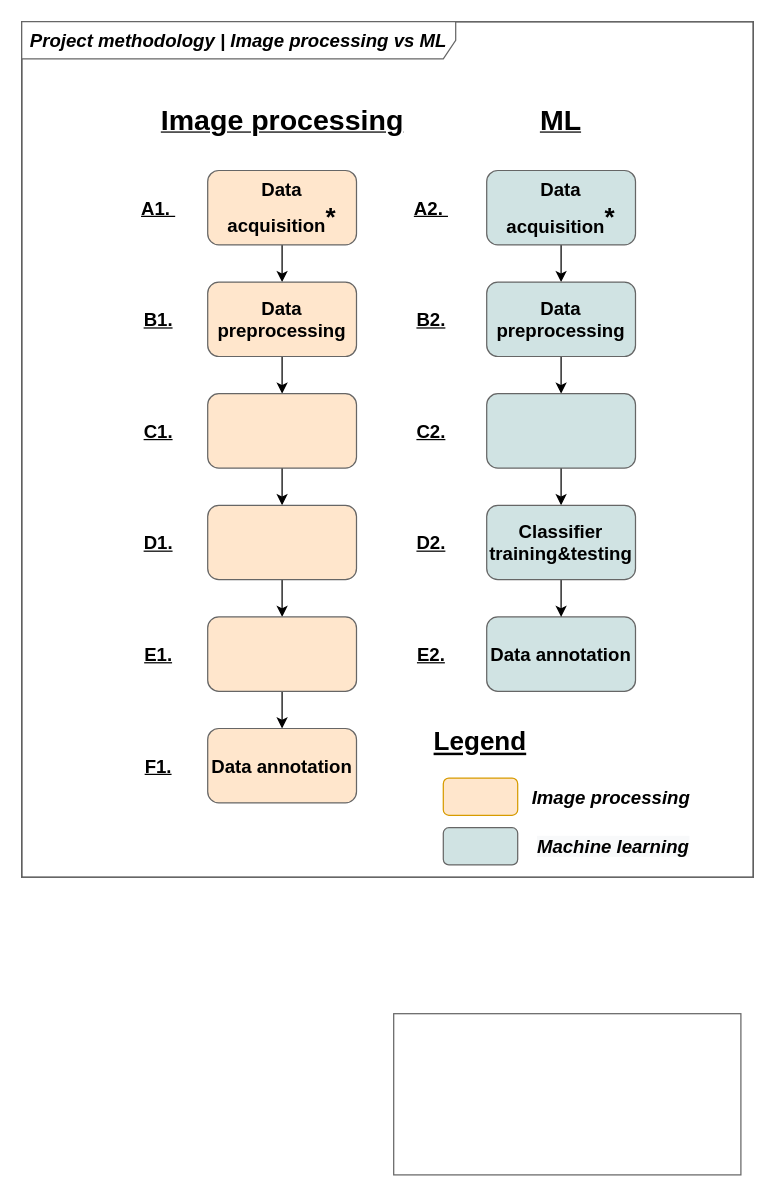
The diagram is 775 pixels wide and 1197 high, and some of its shapes have lost their labels. The shapes that lost their labels are listed below. From the top down, each one's box as (x1, y1, x2, y2) in pixels, then its label:
(206, 392, 356, 468): Color thresholding
(485, 392, 636, 468): Feature extraction
(206, 504, 356, 580): Edge detection
(206, 616, 356, 691): Hough transform
